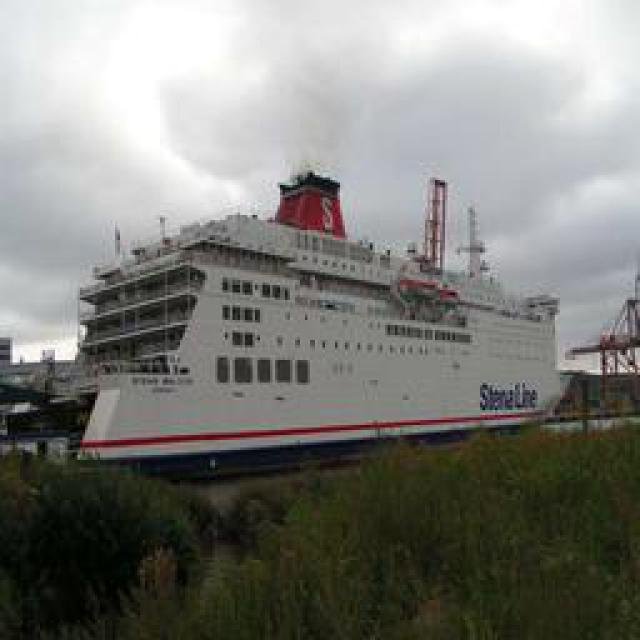Ship: (71, 171, 569, 469)
